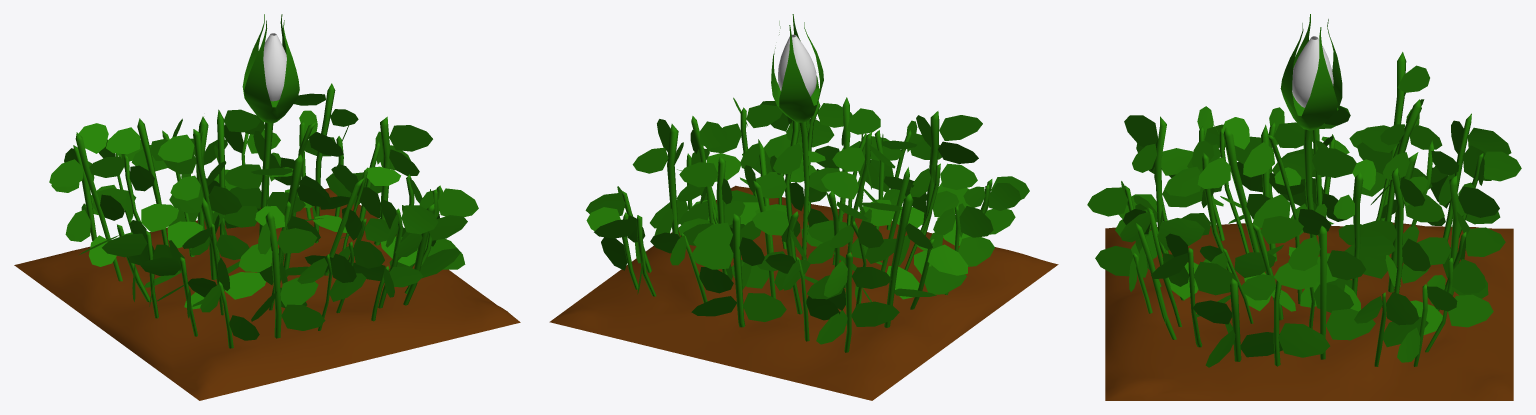
Rendered from white-rose-p2-leaf.glb.
The picture shows the model from 3 angles, left to right: view 1: azimuth 30°, elevation 25°; view 2: azimuth 150°, elevation 25°; view 3: azimuth 270°, elevation 25°; orthographic projection. The views are drawn at different scales.
Parts seen in each view (by area): view 1: 2_nft_out_of_bloom; view 2: 2_nft_out_of_bloom; view 3: 2_nft_out_of_bloom.
Boxes of the visible parts, x1,y1,x2,y2 form: 2_nft_out_of_bloom: (14,14,520,400); 2_nft_out_of_bloom: (549,14,1058,400); 2_nft_out_of_bloom: (1087,14,1521,400).
Size of the model in its own units: 0.751 by 0.5686 by 0.7455.
